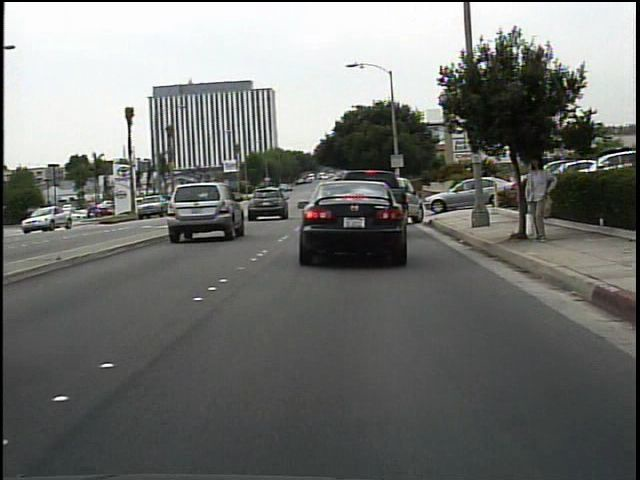person: (520, 151, 559, 246)
